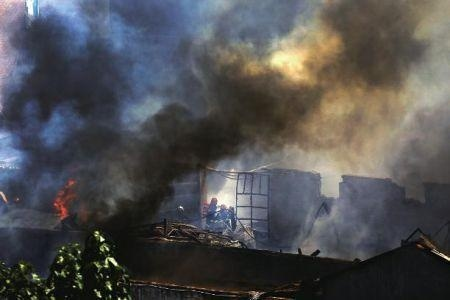fire: (51, 178, 76, 220)
